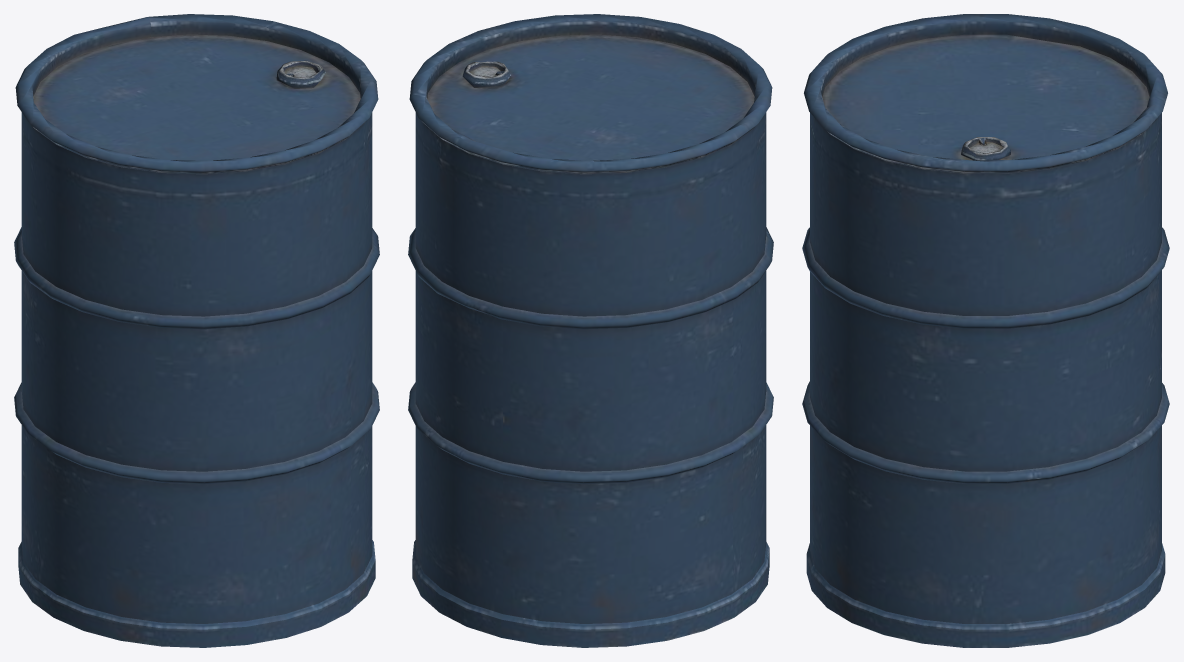
The model's file is barrel_rusty.glb.
The picture shows the model from 3 angles, left to right: view 1: azimuth 30°, elevation 25°; view 2: azimuth 150°, elevation 25°; view 3: azimuth 270°, elevation 25°; orthographic projection.
Visible parts, largest first — view 1: barrel_03; view 2: barrel_03; view 3: barrel_03.
Boxes of the visible parts, left/top/right/bottom form: barrel_03: left=14, top=14, right=379, bottom=647; barrel_03: left=408, top=14, right=773, bottom=647; barrel_03: left=802, top=14, right=1169, bottom=647.
Bounding box in the file's own units: 0.6339 × 0.9305 × 0.6386.
1 material, 1 textured.
